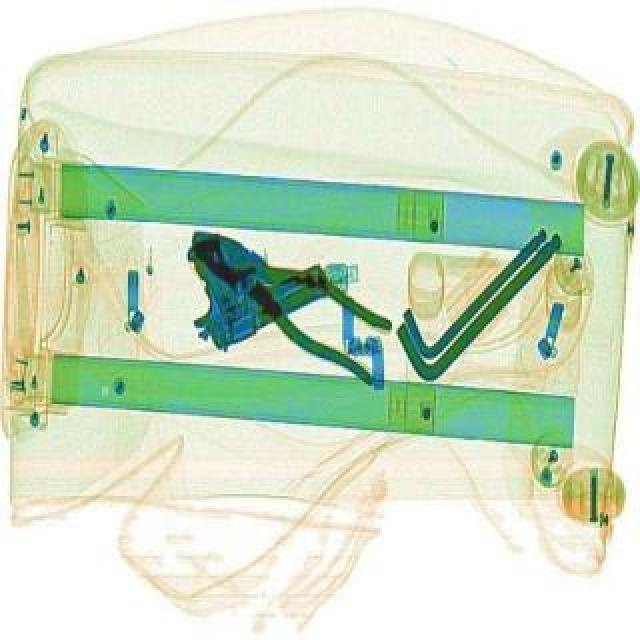gun: (152, 198, 336, 354)
wrench: (168, 204, 412, 388)
